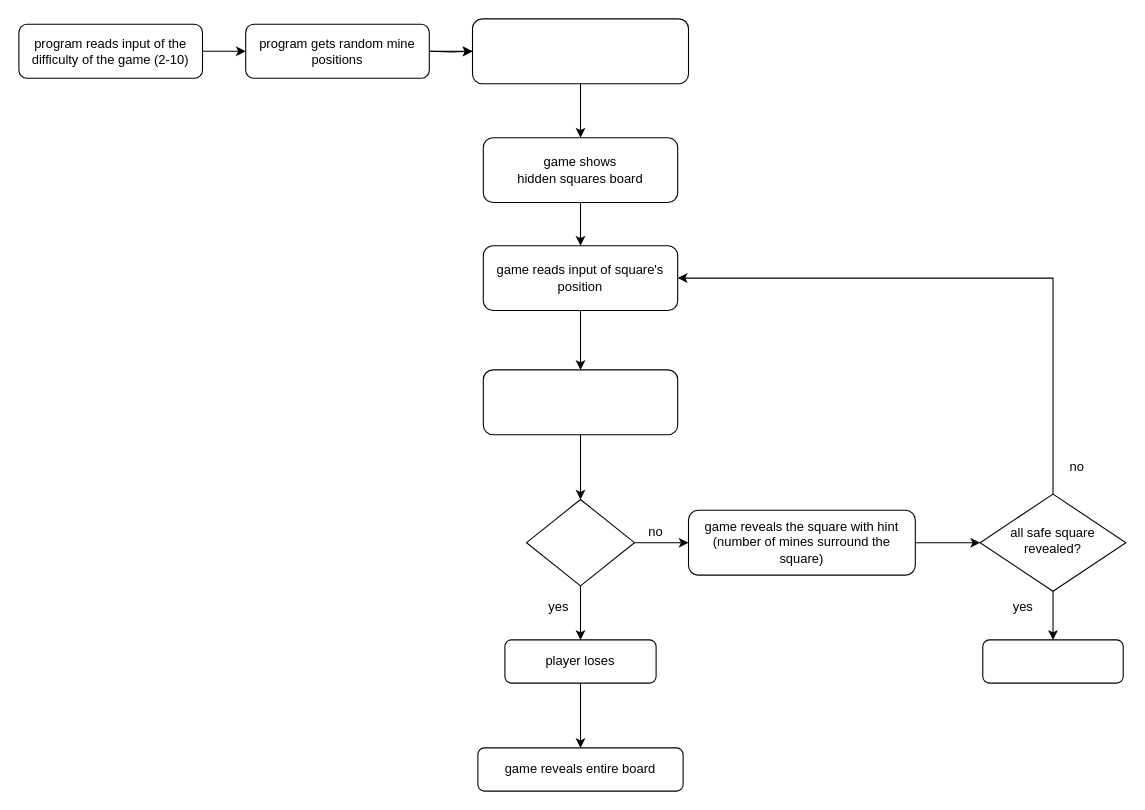
This 1145x810 diagram has some shape labels left out. The shapes that lost their labels are listed below. From the top down, each one's centre as x and y in pixels, then its label:
(579,51): program creates Board with mine squares & safe squares
(580,402): game checks the square
(579,542): mine?
(1052,661): player wins
